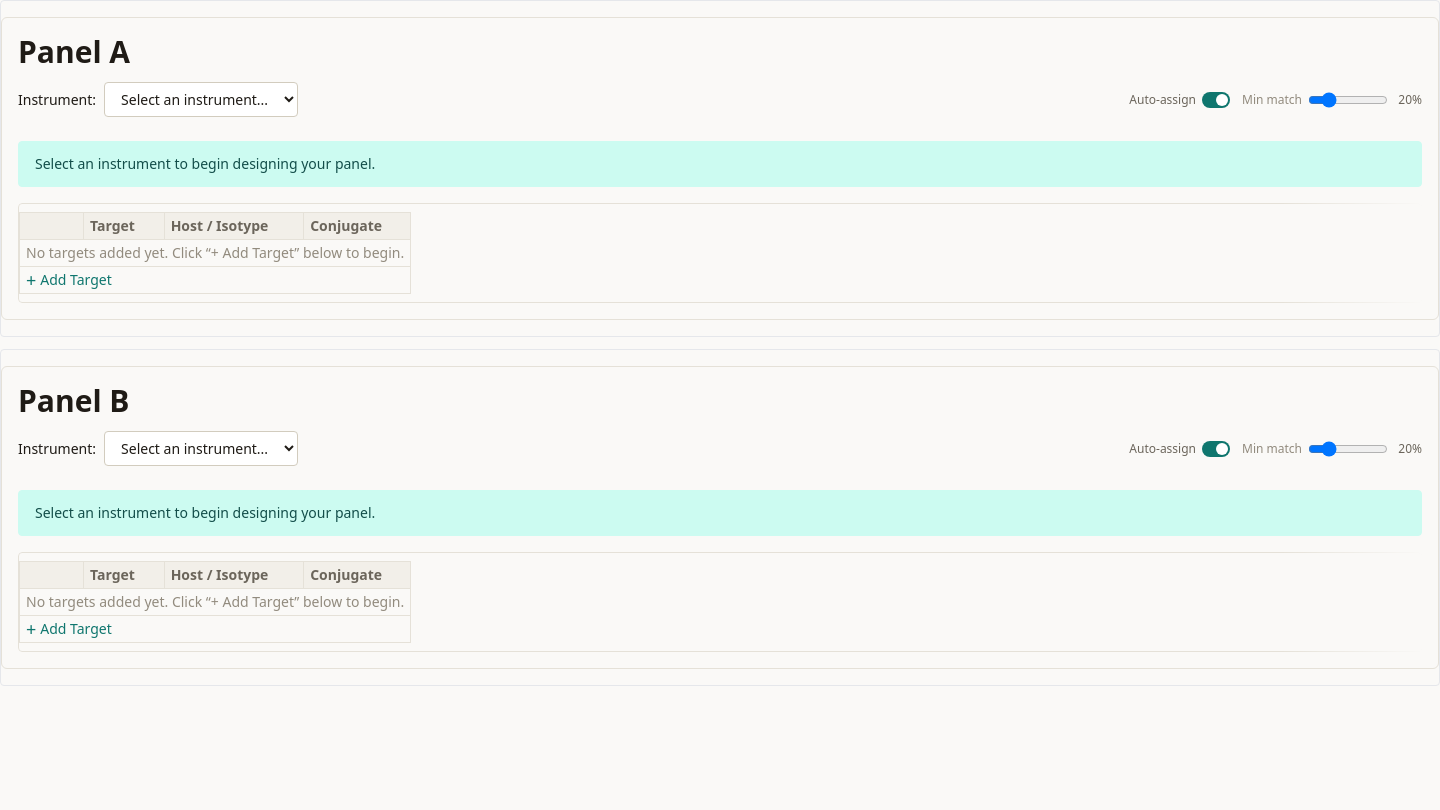
FlowPanelView › Test 4 — two panels, data isolation: editing one does not affect the other
The width and height of the screenshot is (1440, 810).
Expected: the heading "Panel B" is shown, [18,383,130,419]
Note: Click Panel A's name heading to enter edit mode
Click the heading "Panel A" at coordinates (74, 52), box [18,34,130,70]
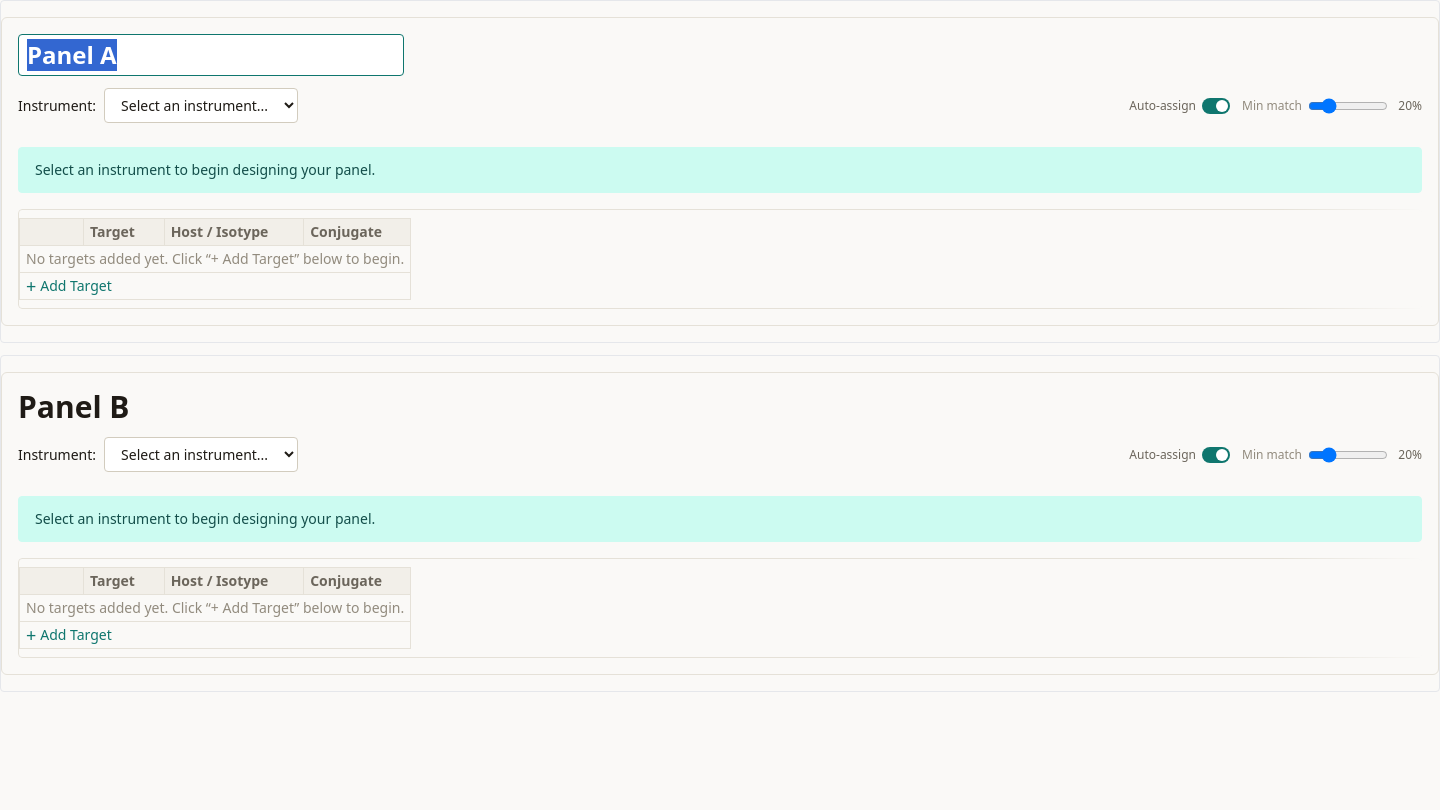
Replace the text in the field showing "Panel A" with "Panel A2" at coordinates (211, 55), box [18,34,404,76]
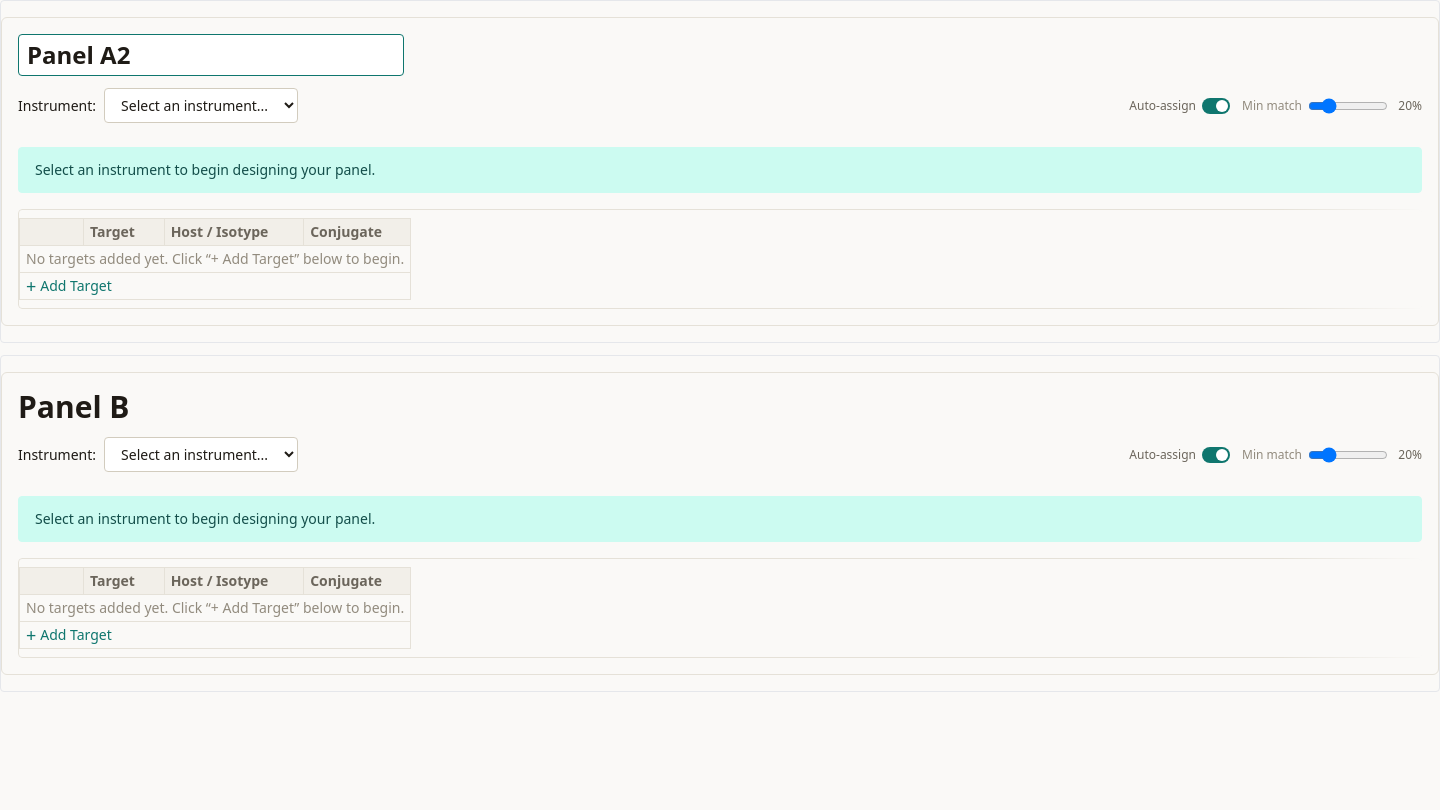
Leave the field showing "Panel A", box [18,34,404,76]
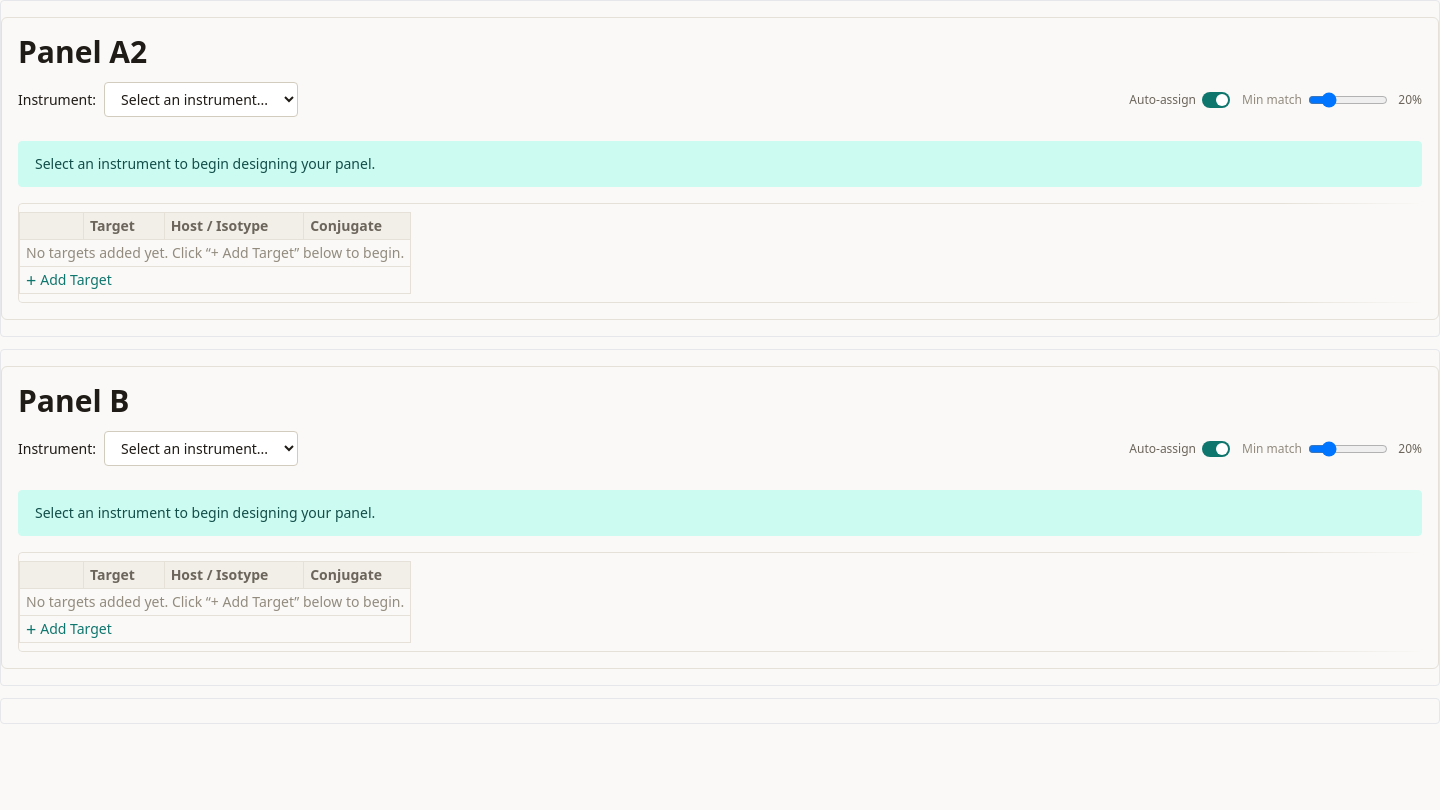
Expected: the heading "Panel B" is shown, [18,383,130,419]
Now the heading "Panel A2" is shown, box [18,34,147,70]
